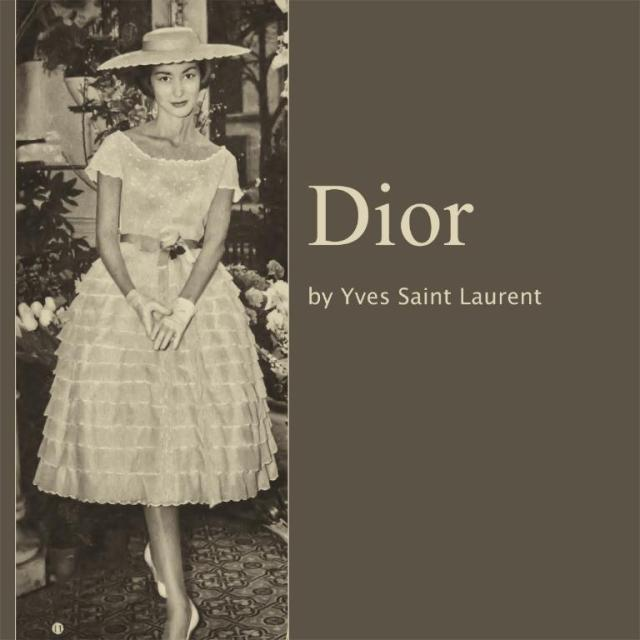Hat: (98, 17, 234, 75)
